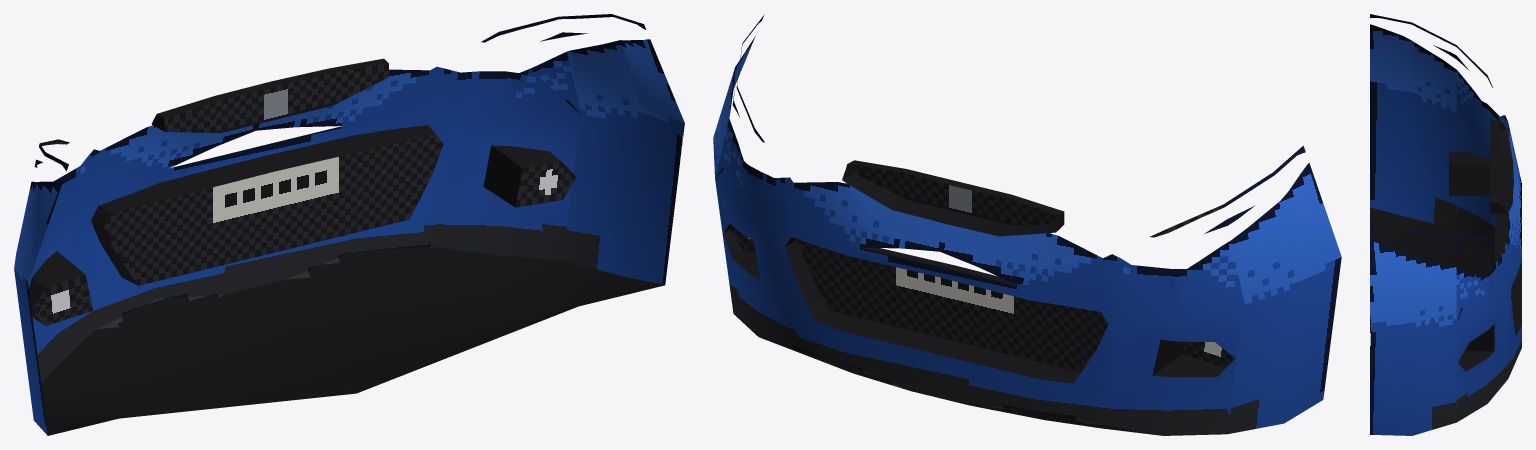
File: bumper_F_lip.glb
3 views of the same model, side by side, from view 1: azimuth 30°, elevation 25°; view 2: azimuth 150°, elevation 25°; view 3: azimuth 270°, elevation 25° (orthographic). The views are drawn at different scales.
Parts seen in each view (by area): view 1: bumper_F_lip; view 2: bumper_F_lip; view 3: bumper_F_lip.
Boxes of the visible parts, x1,y1,x2,y2 form: bumper_F_lip: (14, 14, 684, 435); bumper_F_lip: (713, 14, 1341, 435); bumper_F_lip: (1370, 14, 1521, 435).
Bounding box in the file's own units: 1.67 × 0.7274 × 0.443.
1 material, 1 textured.
